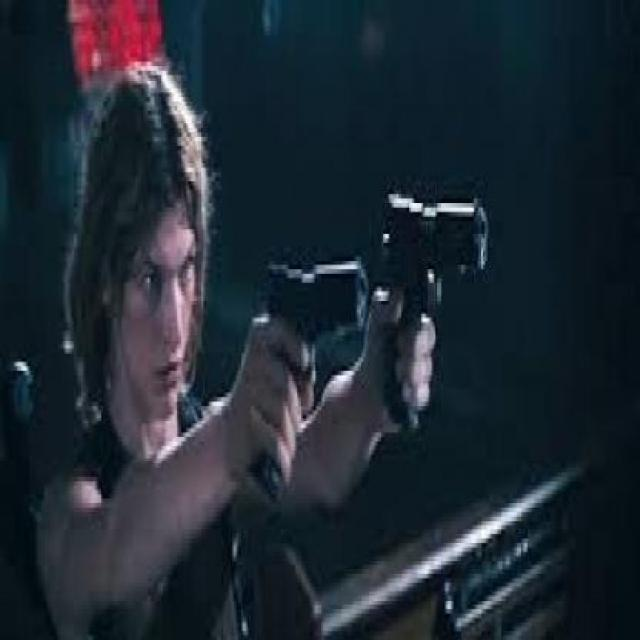Pistol: (377, 191, 488, 434), (263, 256, 366, 496)
